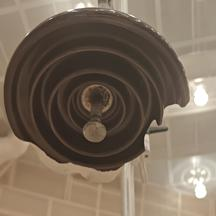insulator: (0, 0, 191, 181)
